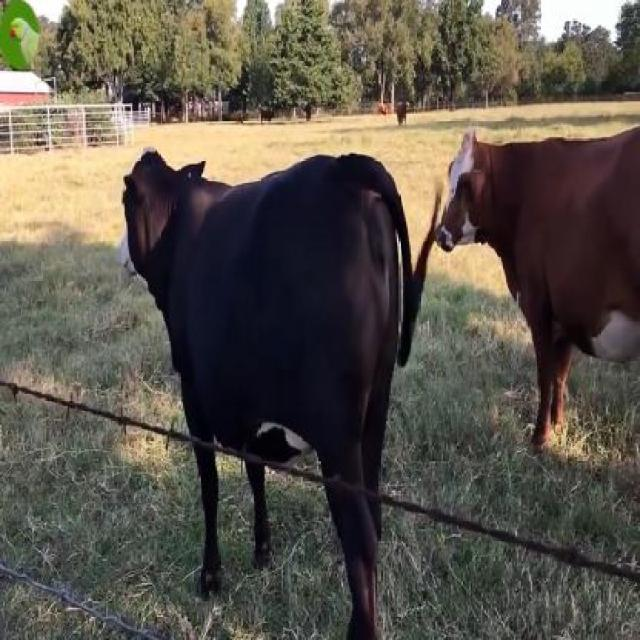Cow: (120, 144, 403, 638), (437, 129, 638, 451)
